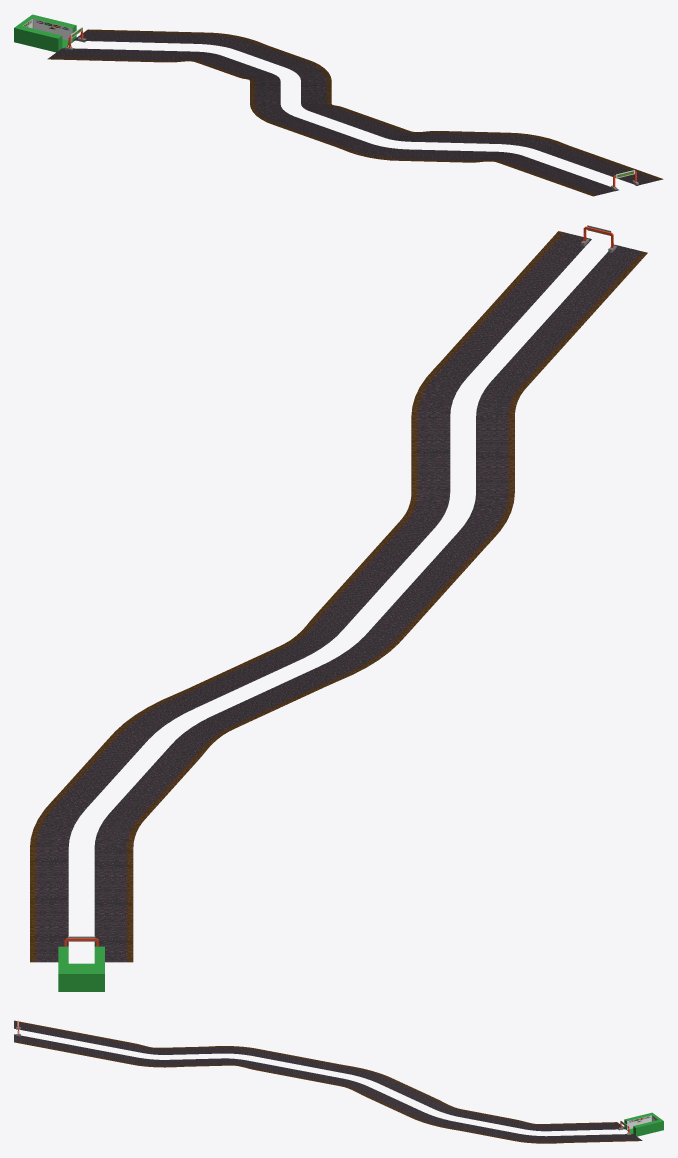
The model's file is CourseSpring_Box_road_gate.fbx.
3 views of the same model, one above another, from view 1: azimuth 30°, elevation 25°; view 2: azimuth 150°, elevation 25°; view 3: azimuth 270°, elevation 25° (orthographic). The views are drawn at different scales.
Visible parts, largest first — view 1: polySurface89, pCube1; view 2: polySurface89, pCube1; view 3: polySurface89, pCube1.
Boxes of the visible parts, x1,y1,x2,y2 form: polySurface89: (47,29,663,196); pCube1: (14,14,76,52); polySurface89: (30,231,647,962); pCube1: (58,946,104,991); polySurface89: (14,1020,642,1143); pCube1: (624,1112,663,1136).
Size of the model in its own units: 82.44 by 113 by 502.
4 materials, 4 textured.
